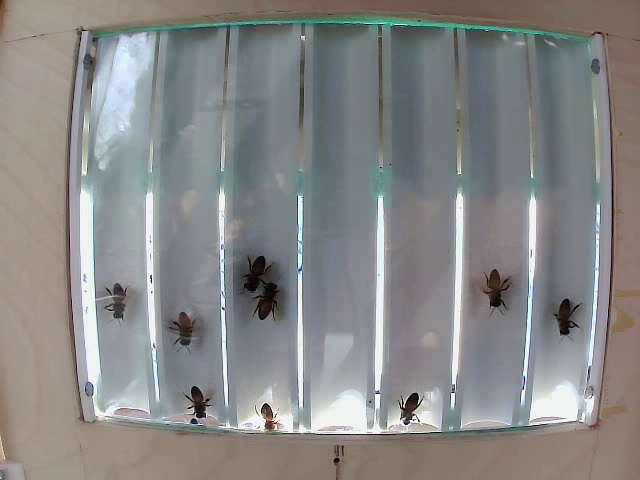bee: (97, 273, 144, 315), (551, 291, 581, 346), (473, 262, 508, 309), (180, 385, 221, 416), (173, 306, 204, 345), (254, 290, 286, 323), (401, 394, 428, 431), (235, 259, 268, 283)
